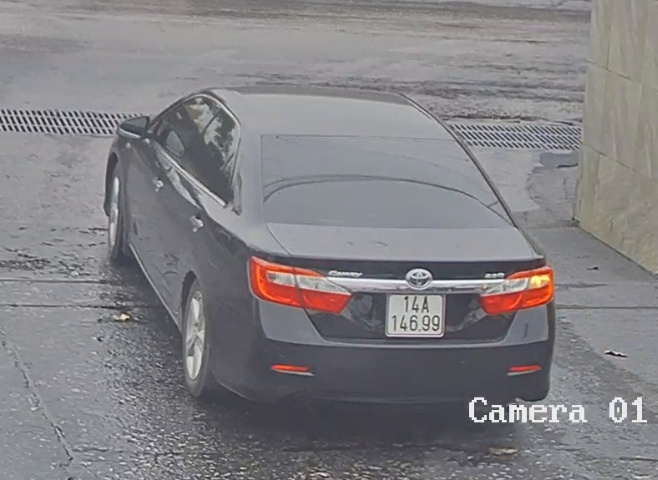vehicle plate: (379, 285, 447, 340)
